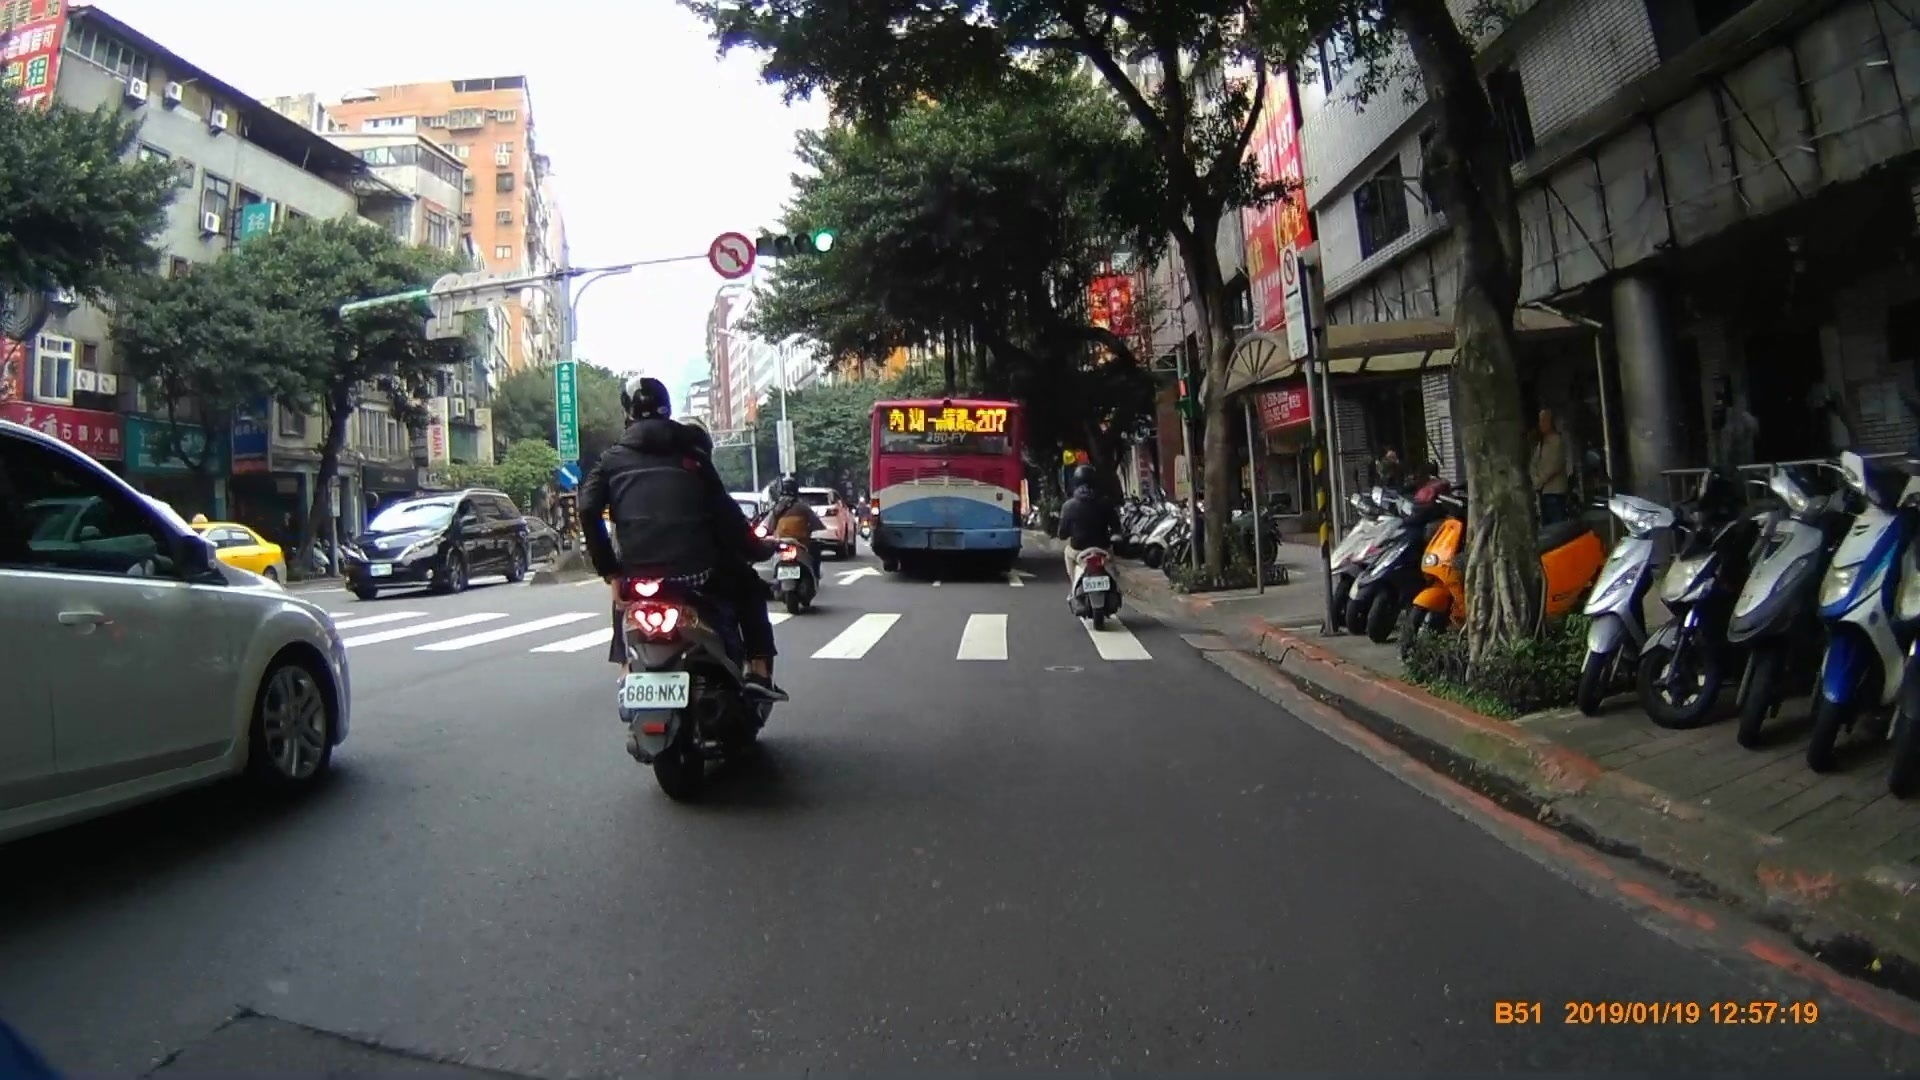License_plate: (625, 675, 689, 708)
